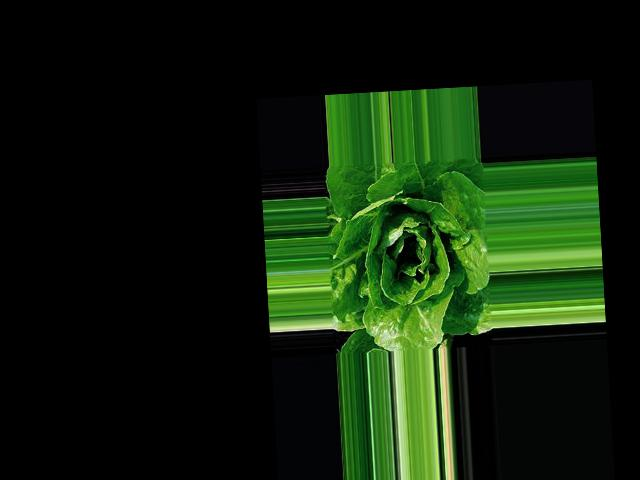lettuce: (296, 195, 379, 315)
